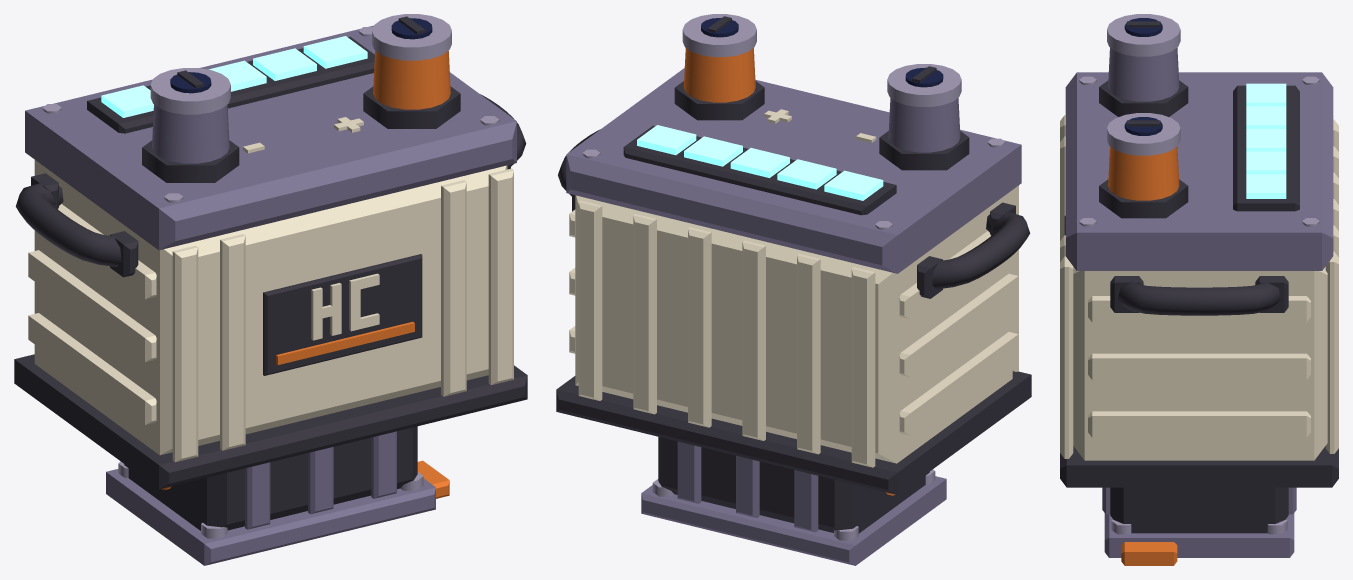
File: battery_hc.glb
3 views of the same model, side by side, from view 1: azimuth 30°, elevation 25°; view 2: azimuth 150°, elevation 25°; view 3: azimuth 270°, elevation 25° (orthographic). The views are drawn at different scales.
Parts seen in each view (by area): view 1: block_creamHull, block_purpleGrey, block_graphite, pedestal_graphite, plate_purpleGrey, plate_purpleGreyLight, plate_orange, block_orange, charge_5, charge_4, charge_1, pedestal_navy (+1 smaller); view 2: block_creamHull, block_purpleGrey, pedestal_graphite, plate_purpleGrey, block_graphite, plate_purpleGreyLight, plate_orange, charge_2, charge_5, charge_1, charge_3, charge_4 (+1 smaller); view 3: block_creamHull, block_purpleGrey, pedestal_graphite, block_graphite, plate_purpleGrey, plate_purpleGreyLight, plate_orange, charge_5, charge_1, charge_4, charge_2, charge_3 (+2 smaller).
Boxes of the visible parts, x1,y1,x2,y2 form: block_creamHull: (28, 160, 513, 462); block_purpleGrey: (25, 25, 516, 250); block_graphite: (14, 254, 527, 489); pedestal_graphite: (15, 16, 526, 530); plate_purpleGrey: (106, 104, 435, 565); plate_purpleGreyLight: (118, 14, 451, 538); plate_orange: (161, 51, 450, 498); block_orange: (276, 321, 414, 364); charge_5: (303, 36, 367, 68); charge_4: (253, 48, 316, 80); charge_1: (101, 85, 153, 117); pedestal_navy: (170, 18, 432, 93); block_creamHull: (569, 185, 1018, 467); block_purpleGrey: (566, 68, 1021, 273); pedestal_graphite: (558, 16, 1030, 533); plate_purpleGrey: (641, 98, 960, 565); block_graphite: (556, 371, 1031, 494); plate_purpleGreyLight: (652, 14, 961, 540); plate_orange: (683, 48, 895, 495); charge_2: (777, 159, 836, 189); charge_5: (637, 125, 696, 155); charge_1: (824, 170, 883, 200); charge_3: (730, 148, 789, 177); charge_4: (684, 136, 742, 166); block_creamHull: (1060, 115, 1338, 460); block_purpleGrey: (1065, 72, 1333, 270); pedestal_graphite: (1099, 21, 1299, 533); block_graphite: (1060, 215, 1338, 487); plate_purpleGrey: (1102, 47, 1296, 557); plate_purpleGreyLight: (1107, 14, 1287, 534); plate_orange: (1108, 146, 1179, 565); charge_5: (1246, 174, 1286, 198); charge_1: (1246, 83, 1286, 106); charge_4: (1246, 151, 1286, 174); charge_2: (1246, 106, 1286, 128); charge_3: (1246, 129, 1286, 151).
Bounding box in the file's own units: 0.4408 × 0.429 × 0.25.
